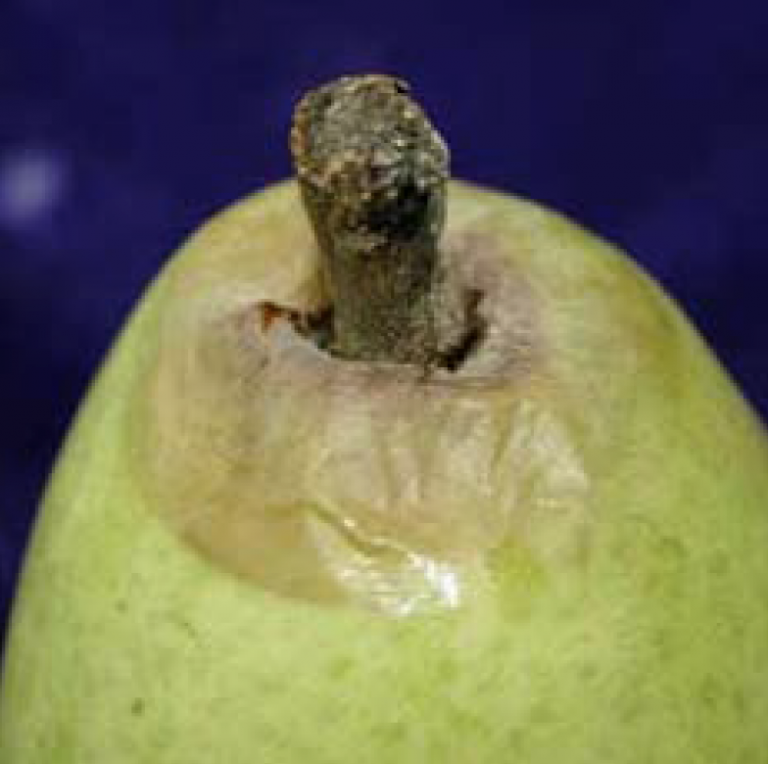Mucor: (339, 102, 482, 236), (254, 294, 319, 396)
